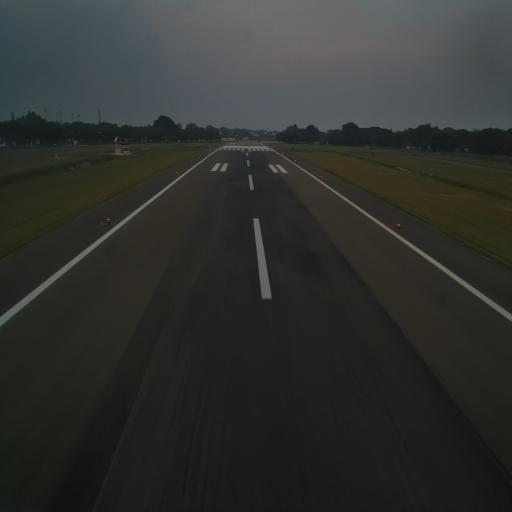on: (394, 221, 402, 230), (104, 215, 112, 224)
